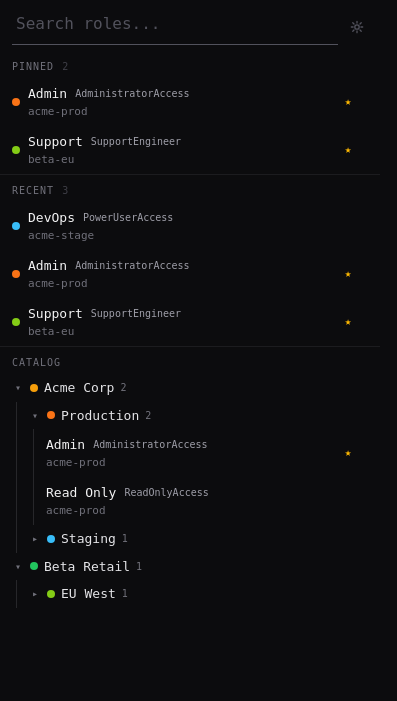
App (popup) › renders search results when typing
Type "admin" into the field with placeholder "Search roles..." at (175, 28), box [12,12,338,45]
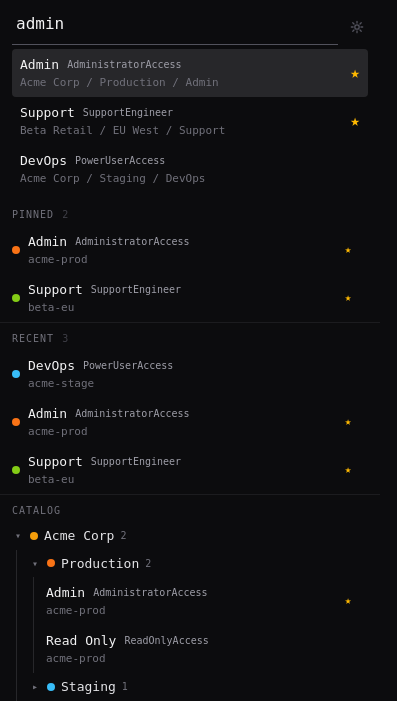
Expected: the 1st text "Admin" is shown, [20,55,59,74]
